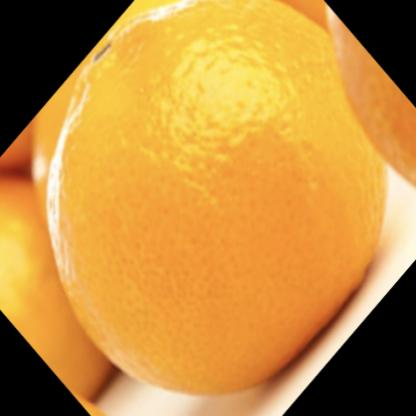fresh: (47, 1, 386, 394)
